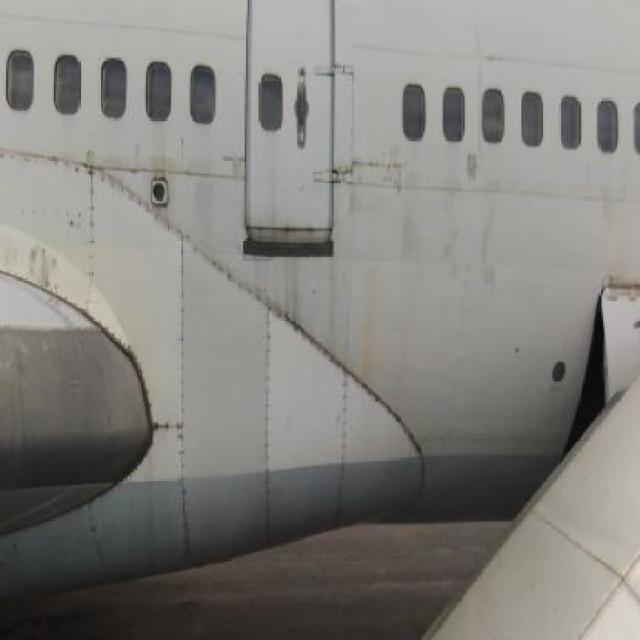Missing-Rivet: (80, 162, 111, 327), (145, 407, 193, 441)
Rust: (351, 252, 387, 399), (276, 241, 316, 342), (250, 206, 332, 242), (597, 251, 640, 303), (142, 128, 182, 182)
Scartch: (398, 171, 522, 291), (20, 222, 71, 306)
